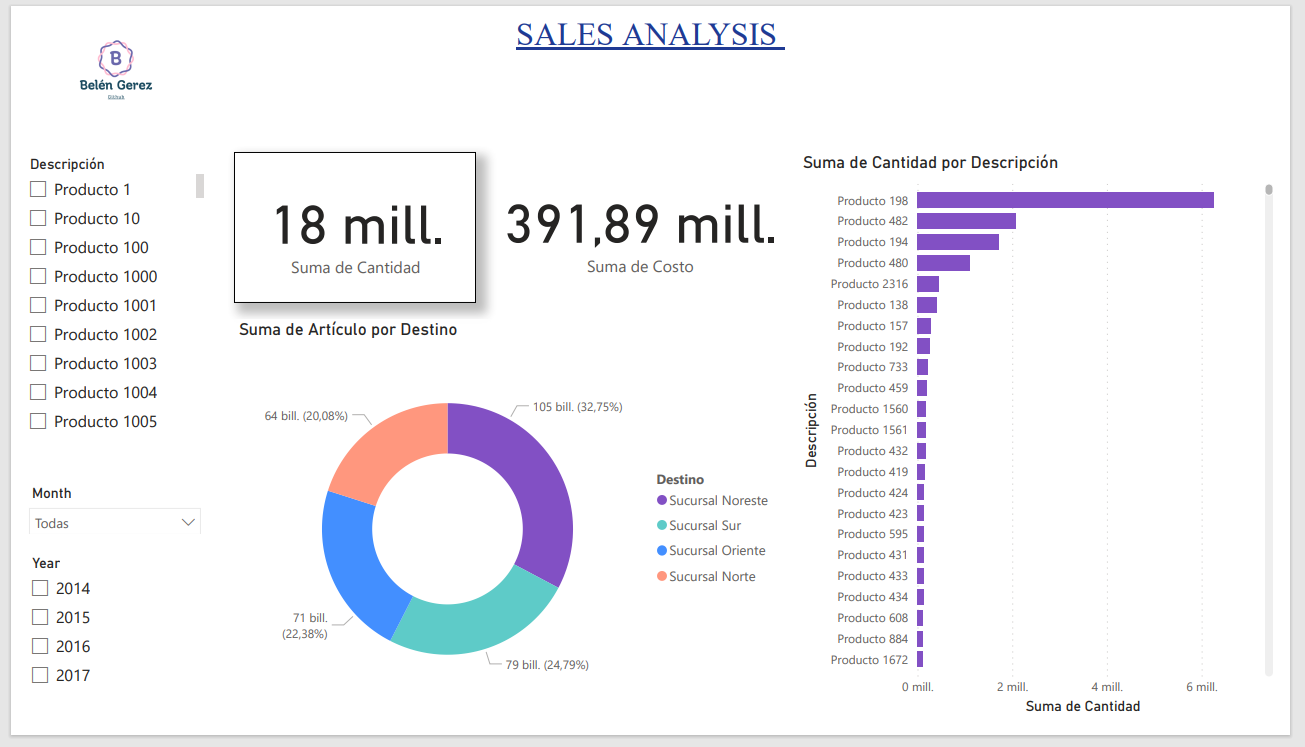

The page's visual inventory and layout, read from the dashboard file:
{"tool":"powerbi","page":{"name":"Análisis de Ventas","canvas":[1280,720],"ordinal":2},"visuals":[{"type":"card","fields":{"Values":["Sum(Tabla_SG_2016_BASE.Cantidad)"]},"box":[786.3,185.2,241.5,150.9],"z":0},{"type":"card","fields":{"Values":["Sum(Tabla_SG_2016_BASE.Costo)"]},"box":[199.9,11.8,283.9,117.6],"z":1000},{"type":"clusteredBarChart","fields":{"Category":["Tabla_SG_2016_BASE.Descripción"],"Y":["Sum(Tabla_SG_2016_BASE.Cantidad)"]},"box":[786.8,141.5,480,567.4],"z":2000},{"type":"slicer","fields":{"Values":["Tabla_SG_2016_BASE.Descripción"]},"box":[10.1,137.7,193.2,295.6],"z":3000},{"type":"slicer","fields":{"Values":["Tabla_SG_2016_BASE.Fecha.Variation.Date Hierarchy.Month"]},"box":[8,468.9,192.3,54],"z":4000},{"type":"donutChart","fields":{"Category":["Tabla_SG_2016_BASE.Destino"],"Y":["Sum(Tabla_SG_2016_BASE.Artículo)"]},"box":[208.3,144.5,549.3,280.5],"z":5000},{"type":"slicer","fields":{"Values":["Tabla_SG_2016_BASE.Fecha.Variation.Date Hierarchy.Year"]},"box":[8,538.8,192.3,170.1],"z":6000},{"type":"image","box":[1066.2,13.7,214.1,90.6],"z":7000},{"type":"image","box":[9.7,12.1,130.2,91.7],"z":8000}]}

Visuals, with their boxes in screenshot pixels (x1, y1, x2, y2), scaled from the page's 1280x720 canvas onto the 1305x747 screenshot:
card - Sum(Tabla_SG_2016_BASE.Cantidad): left=802, top=192, right=1048, bottom=349
card - Sum(Tabla_SG_2016_BASE.Costo): left=204, top=12, right=493, bottom=134
clusteredBarChart - Tabla_SG_2016_BASE.Descripción x Sum(Tabla_SG_2016_BASE.Cantidad): left=802, top=147, right=1292, bottom=735
slicer - Tabla_SG_2016_BASE.Descripción: left=10, top=143, right=207, bottom=450
slicer - Tabla_SG_2016_BASE.Fecha.Variation.Date Hierarchy.Month: left=8, top=486, right=204, bottom=543
donutChart - Tabla_SG_2016_BASE.Destino x Sum(Tabla_SG_2016_BASE.Artículo): left=212, top=150, right=772, bottom=441
slicer - Tabla_SG_2016_BASE.Fecha.Variation.Date Hierarchy.Year: left=8, top=559, right=204, bottom=735
image: left=1087, top=14, right=1304, bottom=108
image: left=10, top=13, right=143, bottom=108
